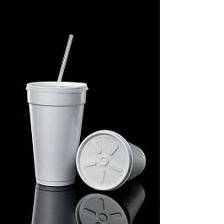drinking_straw: (51, 30, 77, 90)
paper_cup: (21, 76, 91, 190), (72, 126, 149, 194)
